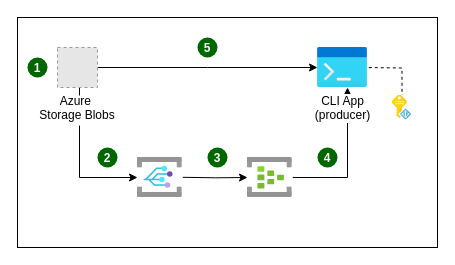
The diagram is 455 pixels wide and 265 high, and some of its shapes have lost their labels. Grey dashed boxes stand in for pictures. The shapes that lost their labels are listed below. From the top down, each one's centre as x and y in pixels, then its label:
At [401,107]: "User Principal".
At [159,177]: "Azure Event Grid".
At [269,177]: "Azure Event Hubs".
